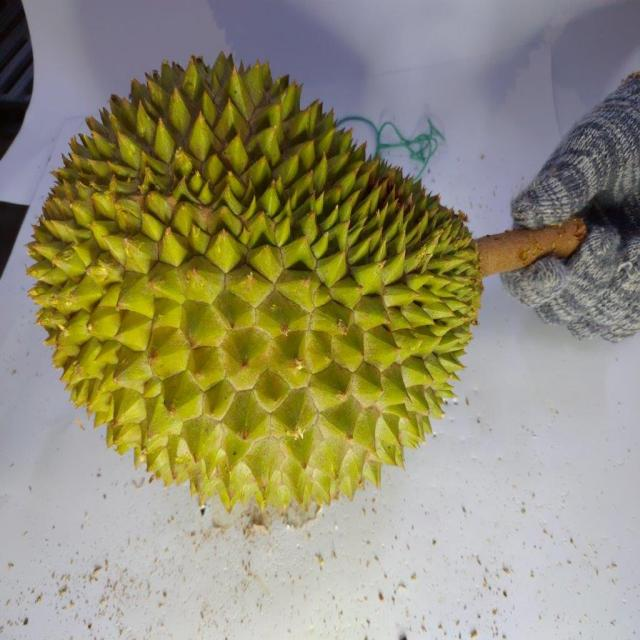immature: (20, 53, 491, 520)
